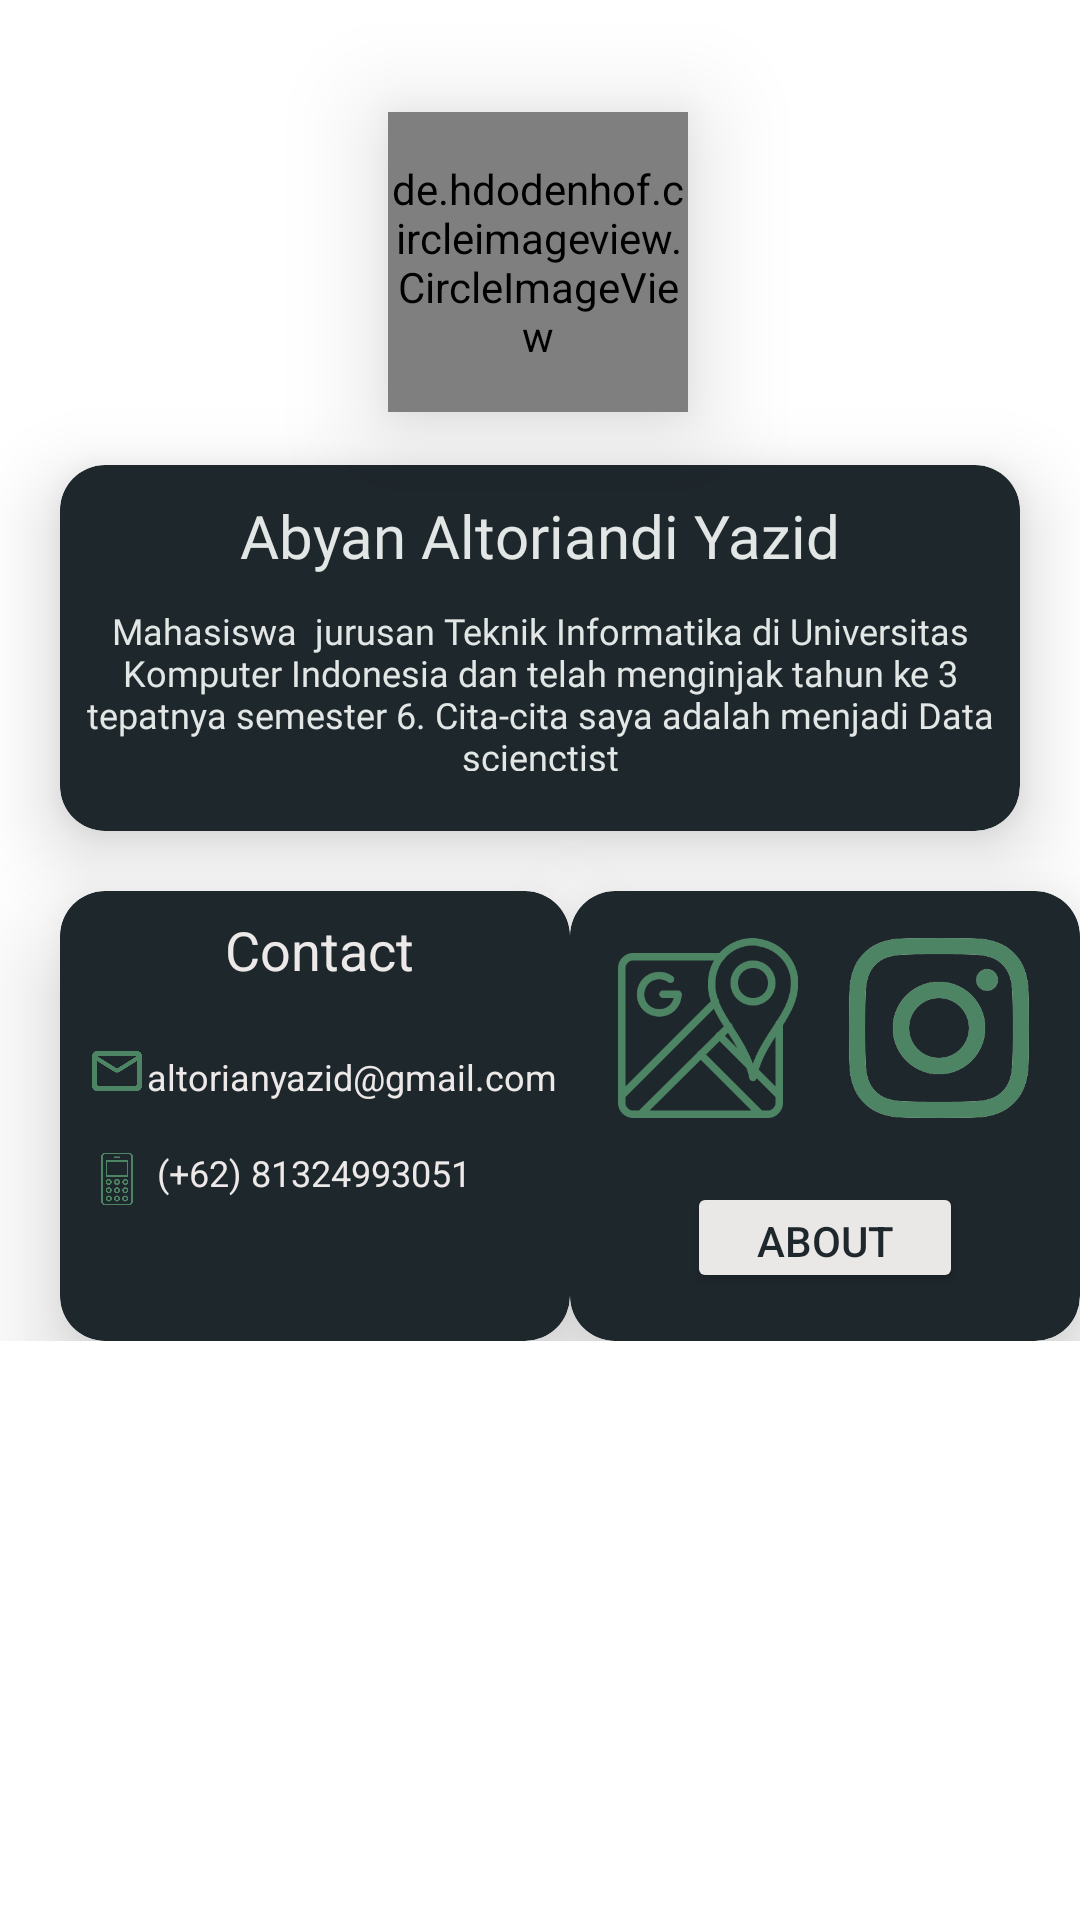

Icons on this 1080*1920 Android screen, each with its box as (x1, y1, x2, y2):
cell: (101, 1153, 133, 1205)
